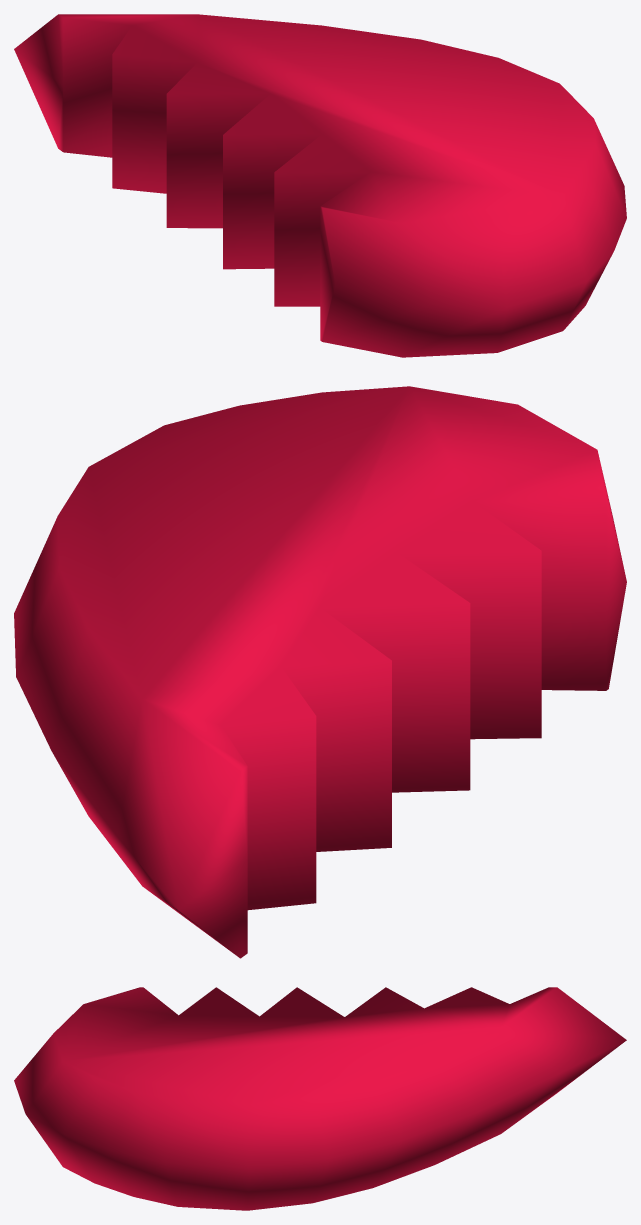
Rendered from heart_bullet_broken_R.glb.
3 views of the same model, one above another, from view 1: azimuth 30°, elevation 25°; view 2: azimuth 150°, elevation 25°; view 3: azimuth 270°, elevation 25° (orthographic). The views are drawn at different scales.
Visible parts, largest first — view 1: Broken Heart; view 2: Broken Heart; view 3: Broken Heart.
Boxes of the visible parts, x1,y1,x2,y2 form: Broken Heart: [14, 14, 626, 357]; Broken Heart: [14, 386, 626, 958]; Broken Heart: [14, 987, 626, 1210].
Size of the model in its own units: 1.18 by 0.4576 by 2.4.
